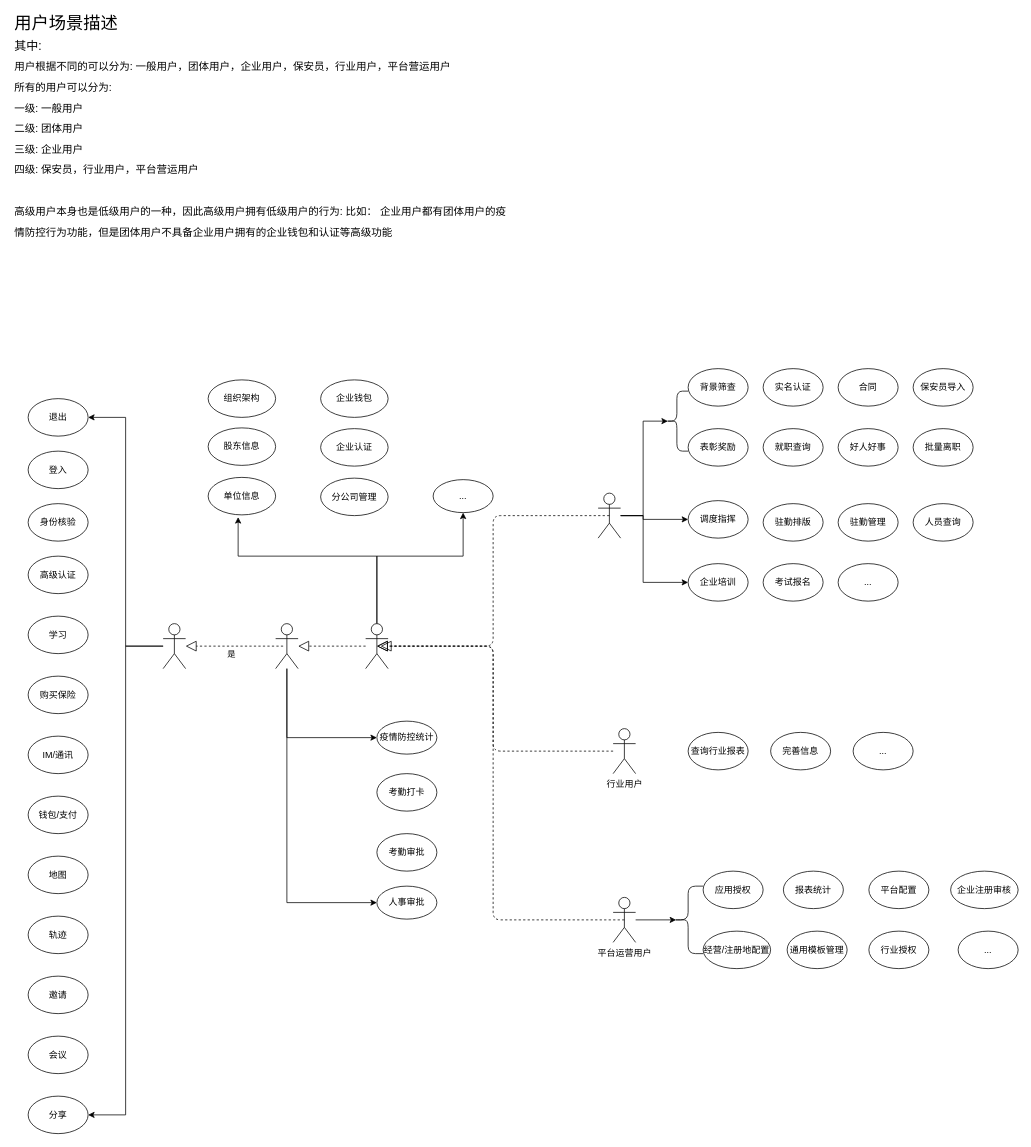
Some shapes in this 1031 by 1147 pixel diagram are drawn without their labels. The shapes that lost their labels are listed below. From the top down, each one's box as (x1, y1, x2, y2) in pixels, then its label:
(597, 492, 621, 538): 保安员
(162, 623, 186, 669): 一般用户
(275, 623, 298, 669): 组织团体用户
(365, 623, 388, 669): 企业用户
